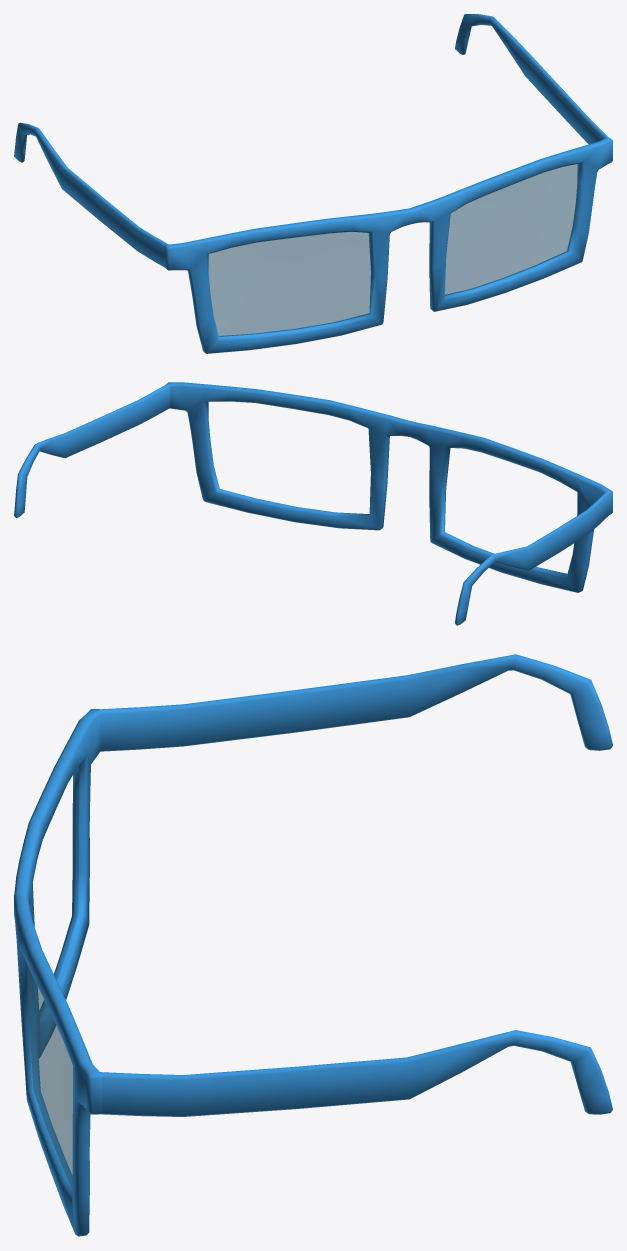
File: accessories_square.glb
3 renders of one model, top to bottom at view 1: azimuth 30°, elevation 25°; view 2: azimuth 150°, elevation 25°; view 3: azimuth 270°, elevation 25°, orthographic. The views are drawn at different scales.
Parts seen in each view (by area): view 1: accessories_square; view 2: accessories_square; view 3: accessories_square.
Boxes of the visible parts, x1,y1,x2,y2 form: accessories_square: (14,14,612,353); accessories_square: (14,382,612,625); accessories_square: (14,654,612,1236).
Size of the model in its own units: 0.3421 by 0.1026 by 0.2243.
2 materials, 1 textured.
